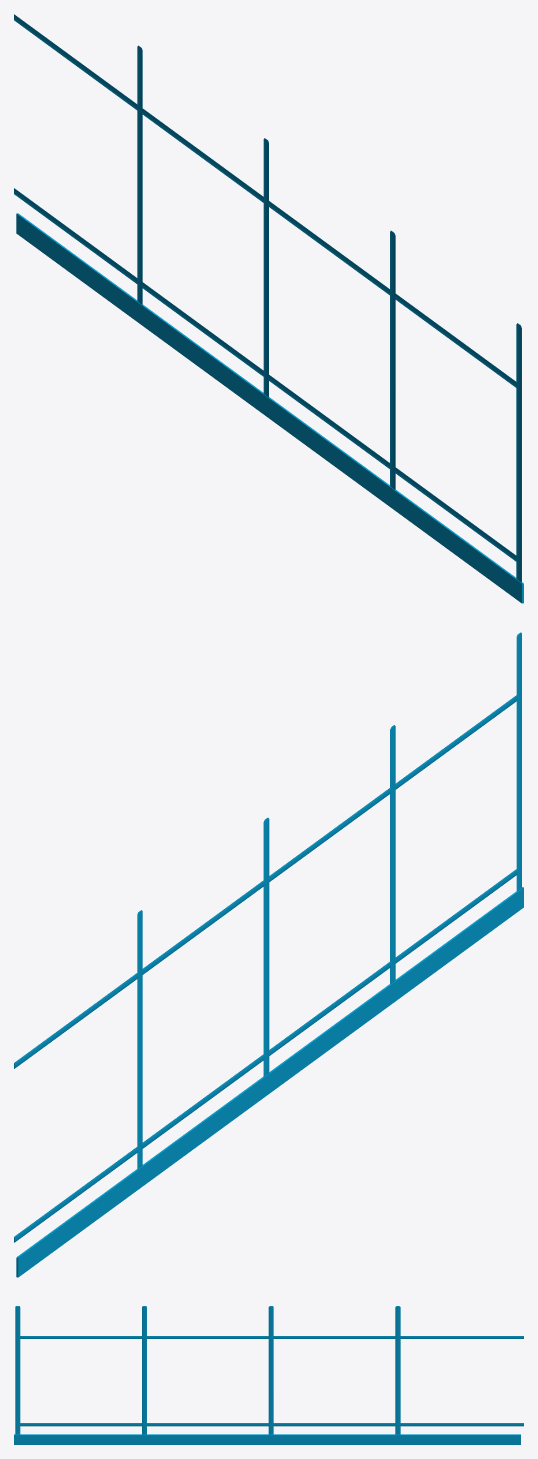
Rendered from Fence_03_x4_Lod1.fbx.
The picture shows the model from 3 angles, top to bottom: view 1: azimuth 30°, elevation 25°; view 2: azimuth 150°, elevation 25°; view 3: azimuth 270°, elevation 25°; orthographic projection. The views are drawn at different scales.
Parts seen in each view (by area): view 1: Fence_03_x4_Lod1; view 2: Fence_03_x4_Lod1; view 3: Fence_03_x4_Lod1.
Boxes of the visible parts, box(x1,y1,x2,y2) form: Fence_03_x4_Lod1: box(14, 14, 523, 603); Fence_03_x4_Lod1: box(14, 632, 523, 1277); Fence_03_x4_Lod1: box(14, 1306, 523, 1444).
Size of the model in its own units: 2.66 by 362 by 1207.
